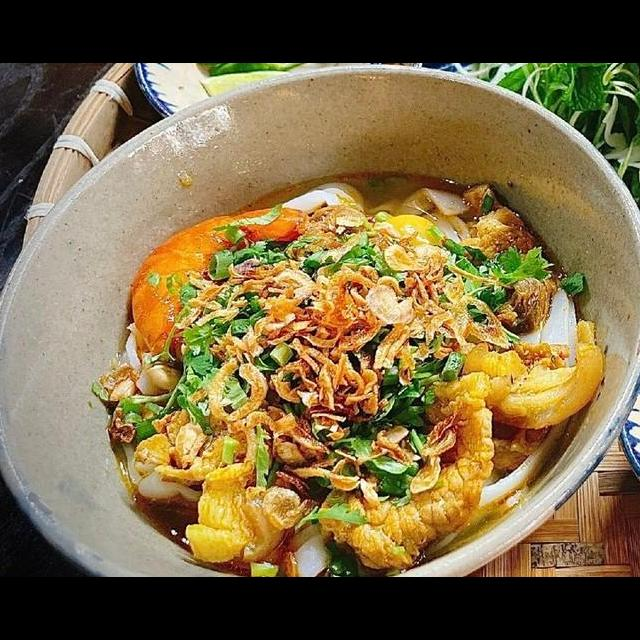mi: (104, 319, 210, 505), (272, 180, 476, 256), (474, 411, 572, 515), (508, 286, 584, 373), (282, 519, 334, 577)
thit heo: (314, 367, 498, 573), (130, 429, 312, 566), (448, 317, 604, 433), (458, 183, 564, 335)
tom: (125, 203, 314, 363)
